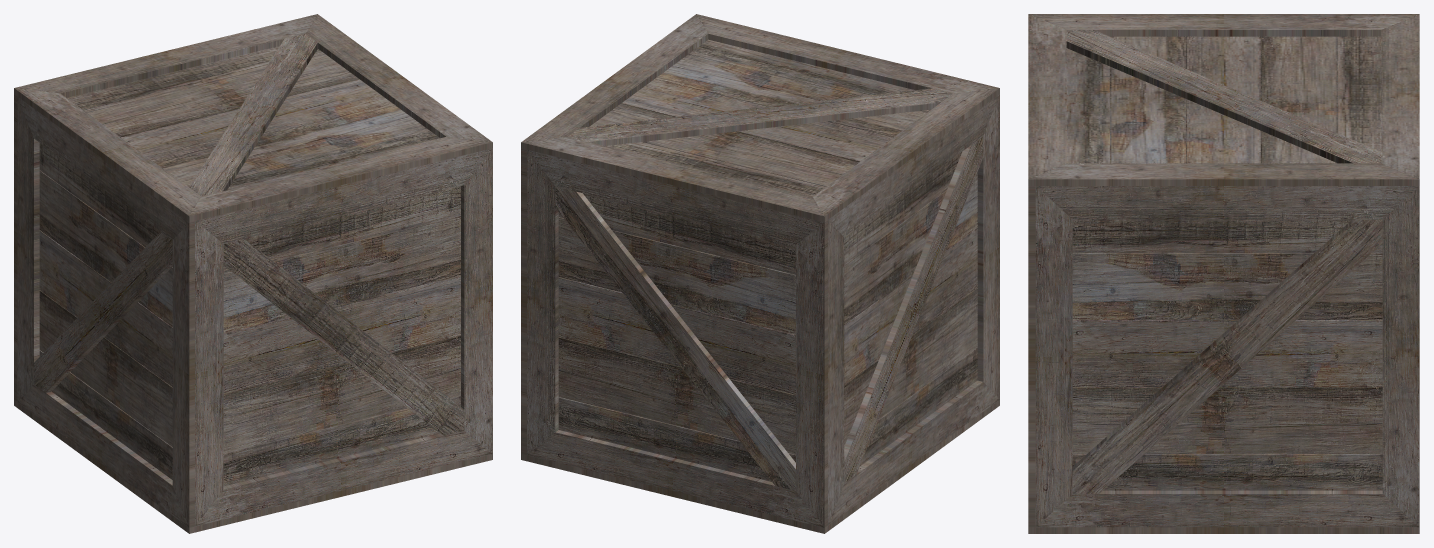
File: Crate-04.FBX
The picture shows the model from 3 angles, left to right: view 1: azimuth 30°, elevation 25°; view 2: azimuth 150°, elevation 25°; view 3: azimuth 270°, elevation 25°; orthographic projection. The views are drawn at different scales.
Visible parts, largest first — view 1: Crate-04_case, Crate-04_cover; view 2: Crate-04_case, Crate-04_cover; view 3: Crate-04_case, Crate-04_cover.
Part boxes in pixels (x1,y1,x2,y2): Crate-04_case: (14,94,492,533); Crate-04_cover: (14,14,492,222); Crate-04_case: (521,94,999,533); Crate-04_cover: (521,14,999,222); Crate-04_case: (1028,36,1419,533); Crate-04_cover: (1028,14,1419,185).
Size of the model in its own units: 0.53 by 0.53 by 0.53.
Materials: 1 (1 with a texture image).
